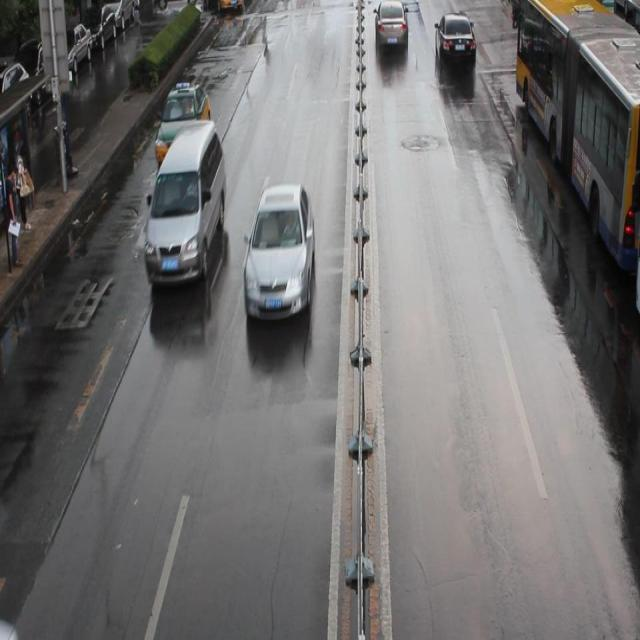car: (242, 183, 315, 318), (156, 81, 210, 168), (434, 12, 475, 66), (372, 1, 407, 46), (1, 614, 21, 640)
truck: (142, 120, 227, 282)
van: (515, 1, 640, 269), (634, 238, 640, 314)
